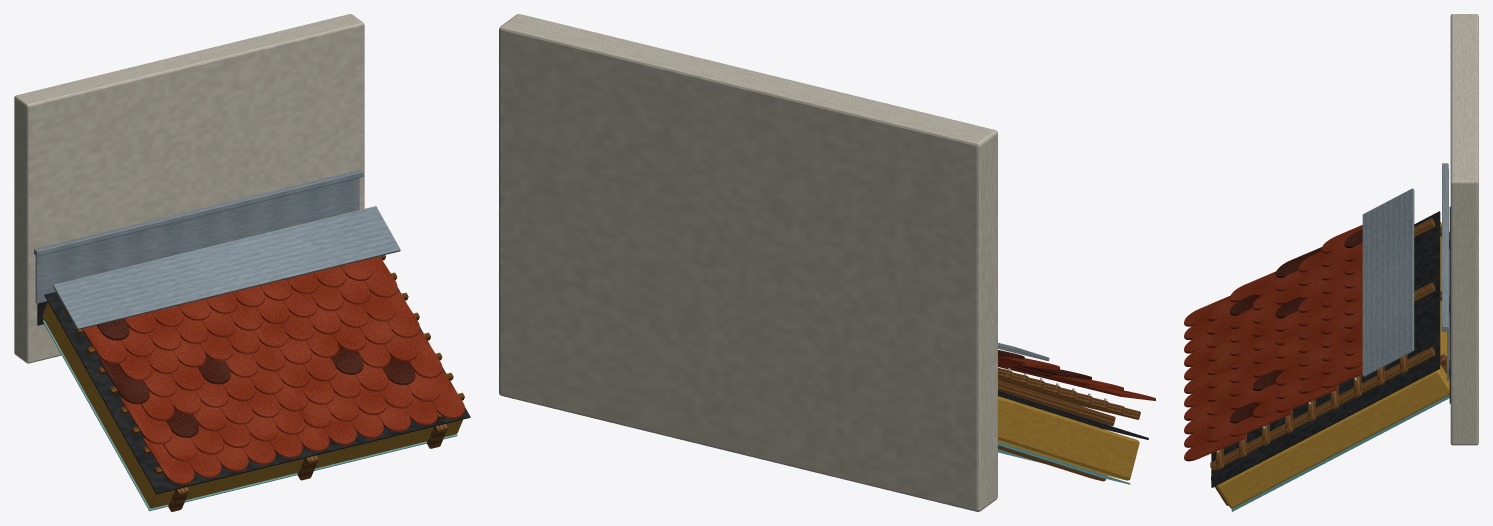
File: modell.glb
3 renders of one model, left to right at view 1: azimuth 30°, elevation 25°; view 2: azimuth 150°, elevation 25°; view 3: azimuth 270°, elevation 25°, orthographic. The views are drawn at different scales.
Parts seen in each view (by area): view 1: s07-wand_, s07-deckziegel_deckung, s07-anschlussblech_deckung, s07-daemmung_daemmung, s07-zusatzebene_zusatzebene, s07-deckziegel_deckung.001, s07-anschlussblech_, s07-luftdichtheit_luftdichtheit, s07-sparren_tragwerk, s07-lattung_lattung; view 2: s07-wand_, s07-daemmung_daemmung, s07-lattung_lattung, s07-deckziegel_deckung, s07-zusatzebene_zusatzebene; view 3: s07-deckziegel_deckung, s07-wand_, s07-anschlussblech_deckung, s07-zusatzebene_zusatzebene, s07-daemmung_daemmung, s07-lattung_lattung, s07-deckziegel_deckung.001, s07-anschlussblech_, s07-luftdichtheit_luftdichtheit, s07-zusatzebene_zusatzebene.001.
Boxes of the visible parts, box(x1,y1,x2,y2) form: s07-wand_: box(14, 14, 364, 363); s07-deckziegel_deckung: box(82, 256, 464, 484); s07-anschlussblech_deckung: box(35, 178, 400, 329); s07-daemmung_daemmung: box(42, 302, 462, 508); s07-zusatzebene_zusatzebene: box(44, 287, 470, 494); s07-deckziegel_deckung.001: box(97, 318, 415, 437); s07-anschlussblech_: box(34, 169, 363, 256); s07-luftdichtheit_luftdichtheit: box(42, 320, 457, 510); s07-sparren_tragwerk: box(168, 424, 447, 511); s07-lattung_lattung: box(64, 255, 464, 474); s07-wand_: box(499, 14, 997, 511); s07-daemmung_daemmung: box(998, 396, 1139, 480); s07-lattung_lattung: box(998, 367, 1140, 425); s07-deckziegel_deckung: box(998, 356, 1155, 400); s07-zusatzebene_zusatzebene: box(998, 390, 1148, 439); s07-deckziegel_deckung: box(1184, 225, 1362, 461); s07-wand_: box(1450, 14, 1478, 445); s07-anschlussblech_deckung: box(1362, 169, 1448, 380); s07-zusatzebene_zusatzebene: box(1211, 211, 1440, 487); s07-daemmung_daemmung: box(1217, 221, 1449, 508); s07-lattung_lattung: box(1210, 218, 1435, 471); s07-deckziegel_deckung.001: box(1230, 229, 1362, 423); s07-anschlussblech_: box(1442, 163, 1448, 331); s07-luftdichtheit_luftdichtheit: box(1231, 395, 1449, 511); s07-zusatzebene_zusatzebene.001: box(1449, 206, 1450, 403).
Size of the model in its own units: 2.25 by 2.13 by 1.67.
9 materials, 7 textured.
